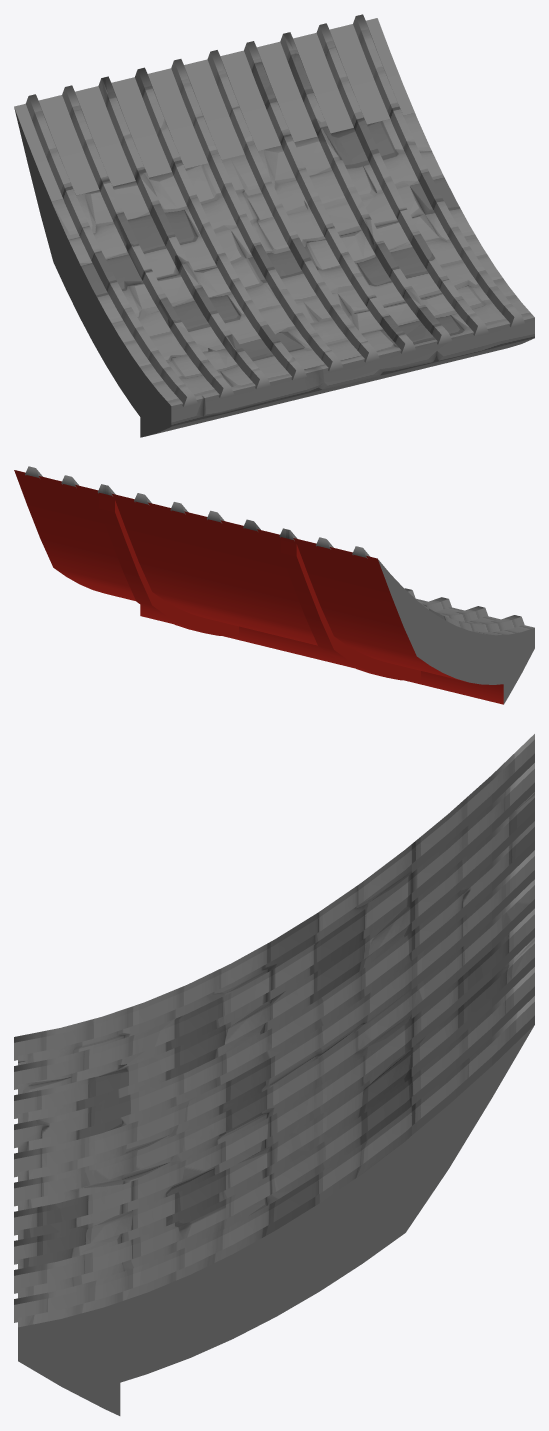
File: SM_Bld_Kawara_S_01.fbx
3 renders of one model, top to bottom at view 1: azimuth 30°, elevation 25°; view 2: azimuth 150°, elevation 25°; view 3: azimuth 270°, elevation 25°, orthographic. The views are drawn at different scales.
Visible parts, largest first — view 1: SM_Bld_Kawara_S_01; view 2: SM_Bld_Kawara_S_01; view 3: SM_Bld_Kawara_S_01.
Boxes of the visible parts, bbox=[...] form: SM_Bld_Kawara_S_01: bbox=[14, 14, 534, 437]; SM_Bld_Kawara_S_01: bbox=[14, 466, 534, 704]; SM_Bld_Kawara_S_01: bbox=[14, 734, 534, 1415].
Bounding box in the file's own units: 5 × 3.23 × 3.78.
